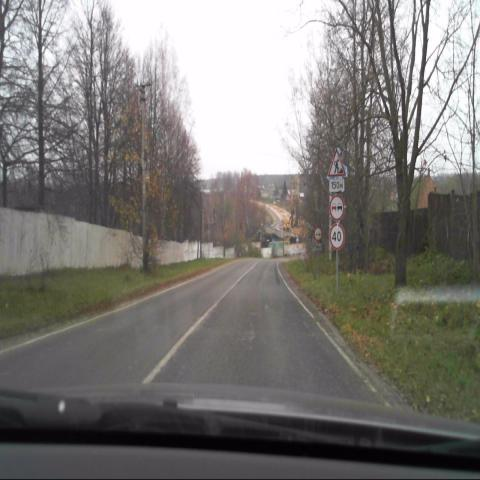1_25: (328, 150, 345, 176)
3_20: (328, 194, 344, 220)
